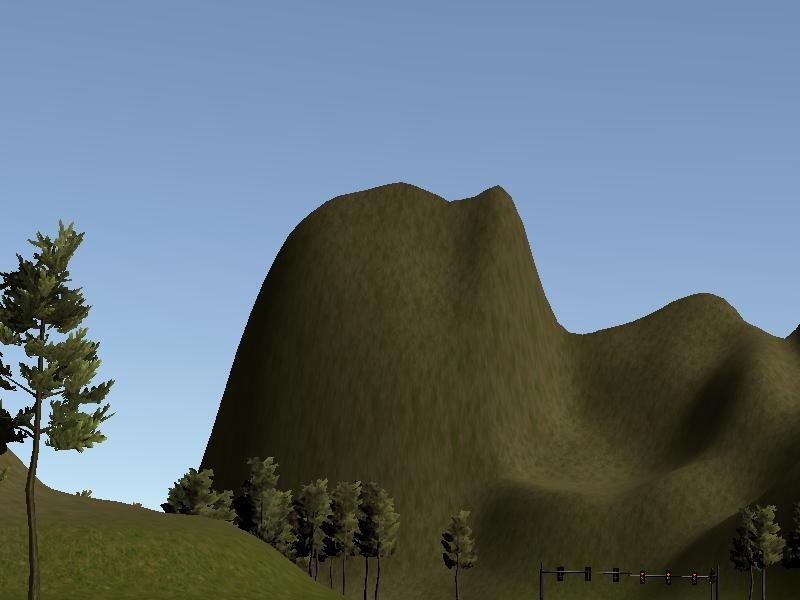Red: (666, 573, 672, 585), (692, 572, 697, 585), (640, 571, 644, 583)
